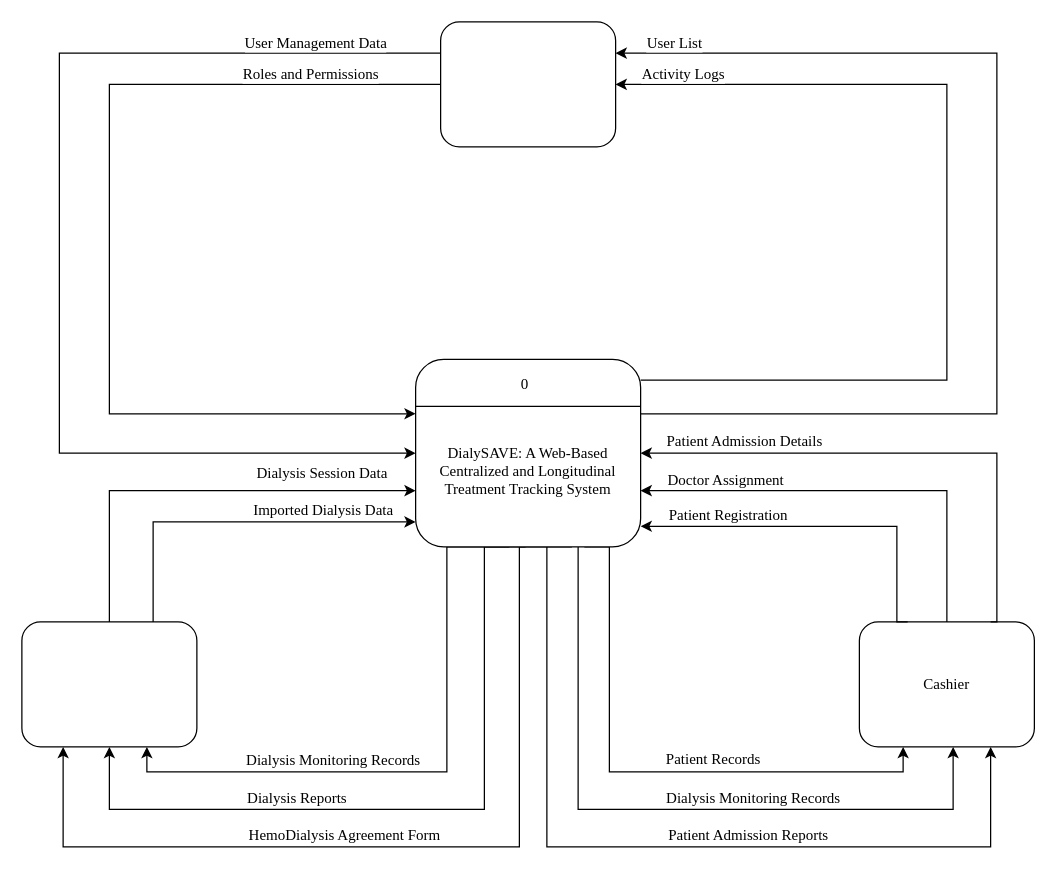
Image size: 1056x879. Some labels were removed from this diagram. The shapes that lost their labels are listed below. From the top down, each one's centre as x and y in pixels, then its label:
At pixel 527 84: "Admin".
At pixel 109 684: "Philhealth Staff".
